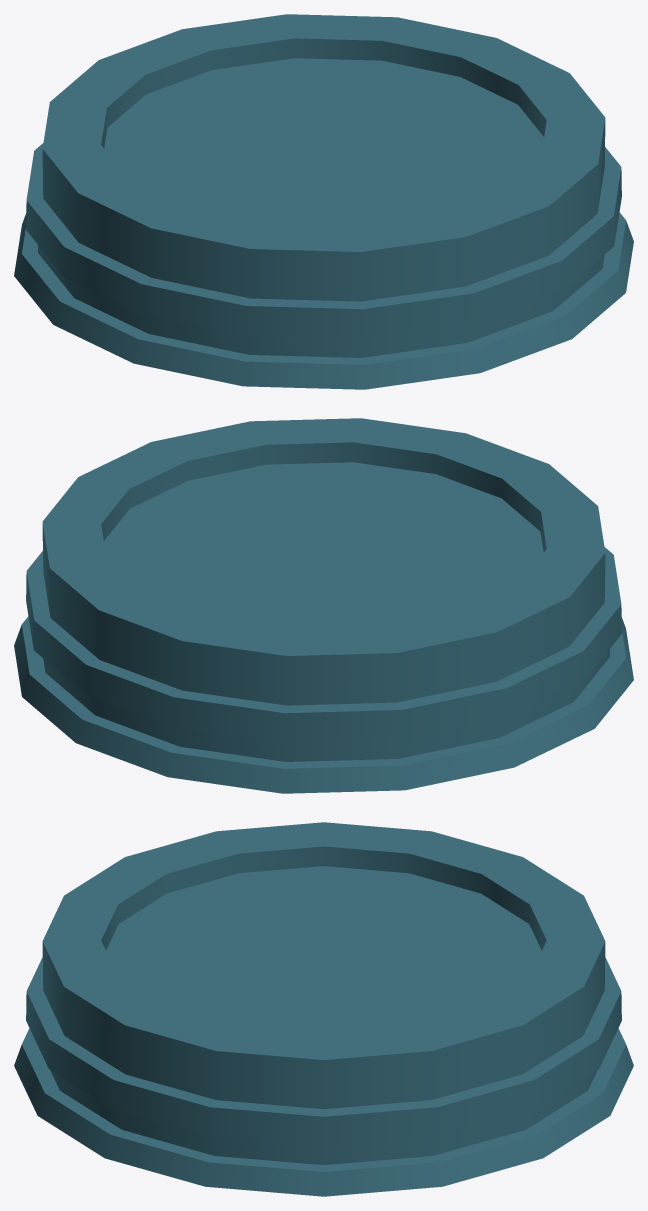
Rendered from SM_SmallTrashkit_CupCap_002.fbx.
3 renders of one model, top to bottom at view 1: azimuth 30°, elevation 25°; view 2: azimuth 150°, elevation 25°; view 3: azimuth 270°, elevation 25°, orthographic.
Parts seen in each view (by area): view 1: SM_SmallTrashkit_CupCap_002; view 2: SM_SmallTrashkit_CupCap_002; view 3: SM_SmallTrashkit_CupCap_002.
Part boxes in pixels (<box>): SM_SmallTrashkit_CupCap_002: <box>14,14,633,389</box>; SM_SmallTrashkit_CupCap_002: <box>14,418,633,793</box>; SM_SmallTrashkit_CupCap_002: <box>14,822,633,1196</box>.
Bounding box in the file's own units: 12 × 2.71 × 12.
